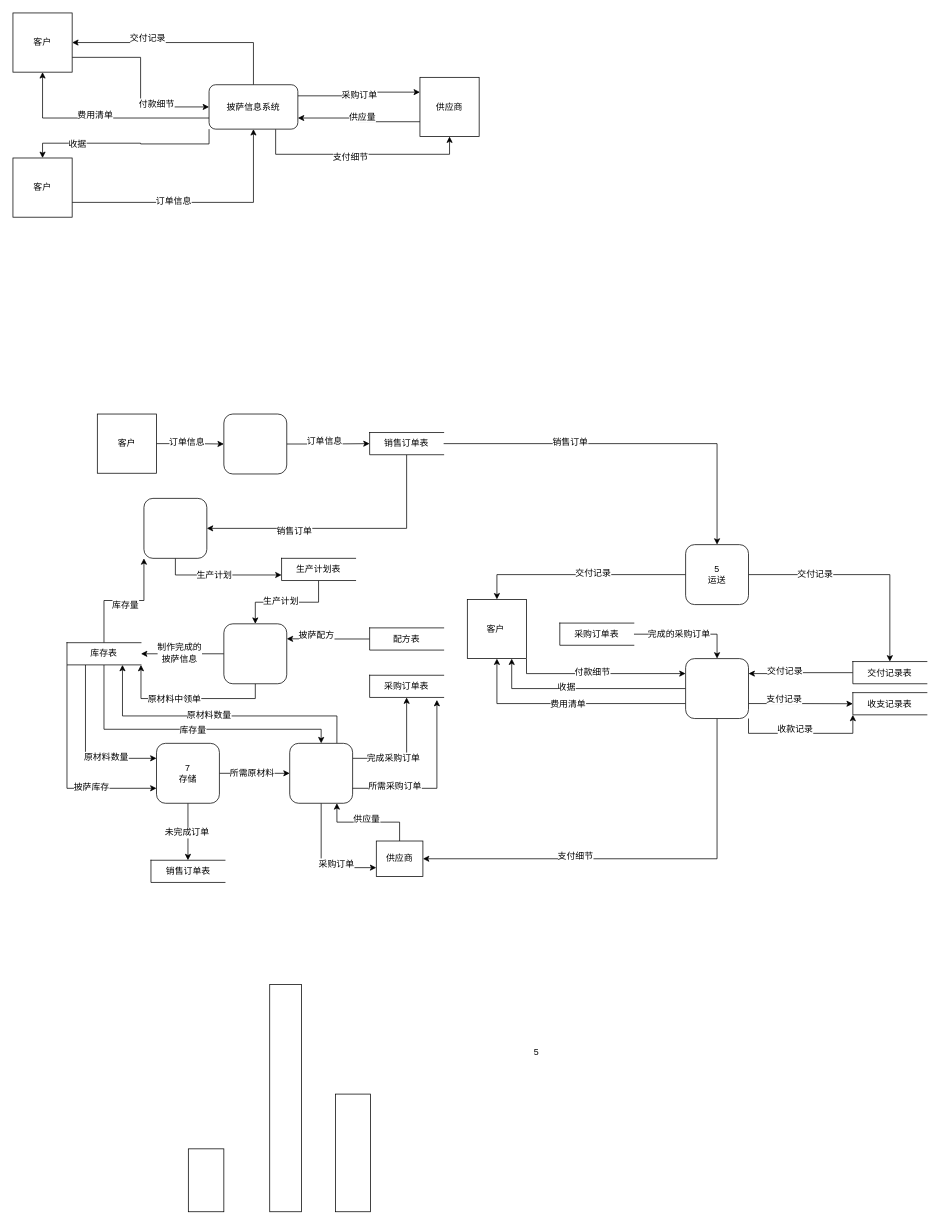
This 940x1225 diagram has some shape labels left out. The shapes that lost their labels are listed below. From the top down, each one's centre as x and y in pixels, then its label:
At (255,443): "1 销售".
At (175,528): "2 生产控制".
At (255,653): "3 生产".
At (717,688): "6 财务管理".
At (321,773): "4 采购".
